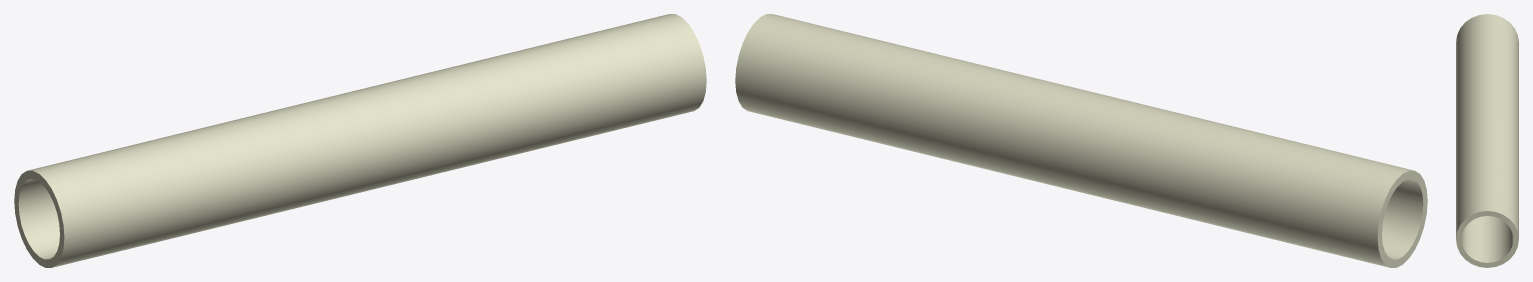
File: original-2.obj
3 views of the same model, side by side, from view 1: azimuth 30°, elevation 25°; view 2: azimuth 150°, elevation 25°; view 3: azimuth 270°, elevation 25° (orthographic). The views are drawn at different scales.
Visible parts, largest first — view 1: Group2/mesh5/mesh5-geometry#mesh5-geometry; view 2: Group2/mesh5/mesh5-geometry#mesh5-geometry; view 3: Group2/mesh5/mesh5-geometry#mesh5-geometry.
Part boxes in pixels (<box>): Group2/mesh5/mesh5-geometry#mesh5-geometry: <box>14,14,706,267</box>; Group2/mesh5/mesh5-geometry#mesh5-geometry: <box>735,14,1427,267</box>; Group2/mesh5/mesh5-geometry#mesh5-geometry: <box>1456,14,1518,267</box>.
Size of the model in its own units: 0.3085 by 0.0417 by 0.0417.
